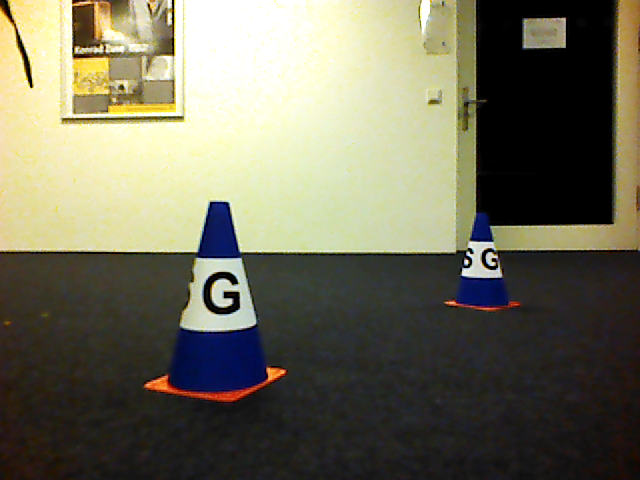bluecone: (142, 201, 288, 404), (446, 212, 522, 313)
